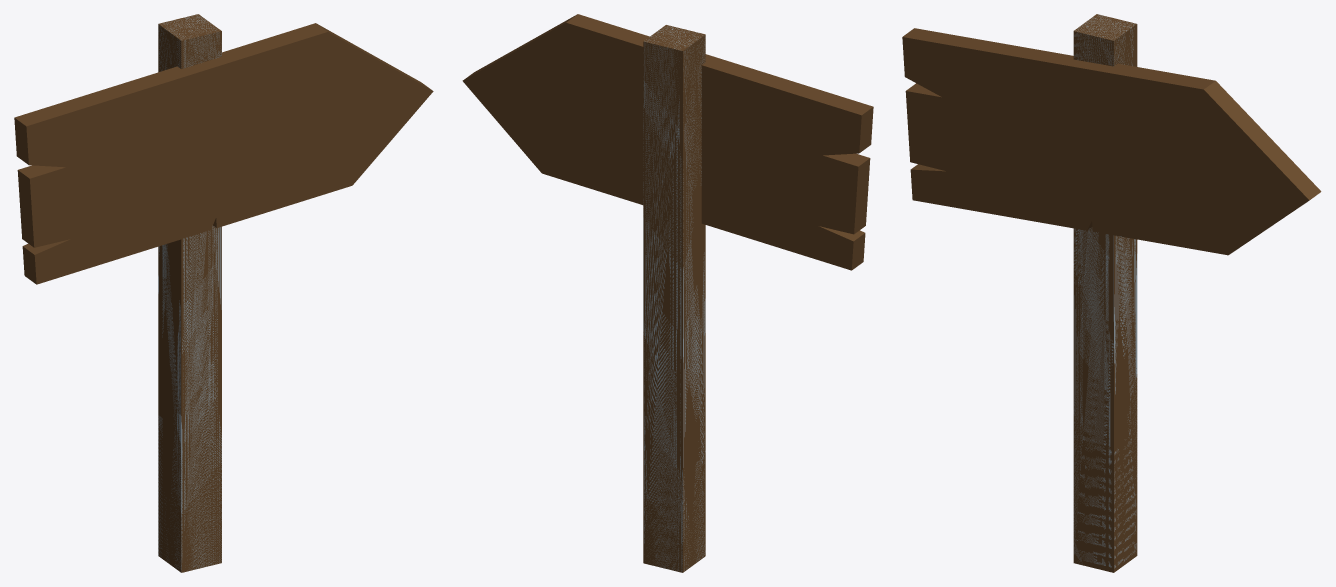
File: Sign_Timber_Blank_01.fbx
3 renders of one model, left to right at view 1: azimuth 30°, elevation 25°; view 2: azimuth 150°, elevation 25°; view 3: azimuth 330°, elevation 25°, orthographic.
Parts seen in each view (by area): view 1: Model, Group1; view 2: Model, Group1; view 3: Model, Group1.
Boxes of the visible parts, x1,y1,x2,y2 form: Model: (14, 23, 433, 284); Group1: (158, 14, 221, 572); Model: (462, 14, 873, 270); Group1: (643, 25, 705, 572); Model: (902, 28, 1321, 255); Group1: (1073, 14, 1137, 572).
Bounding box in the file's own units: 218 × 272 × 29.07.
